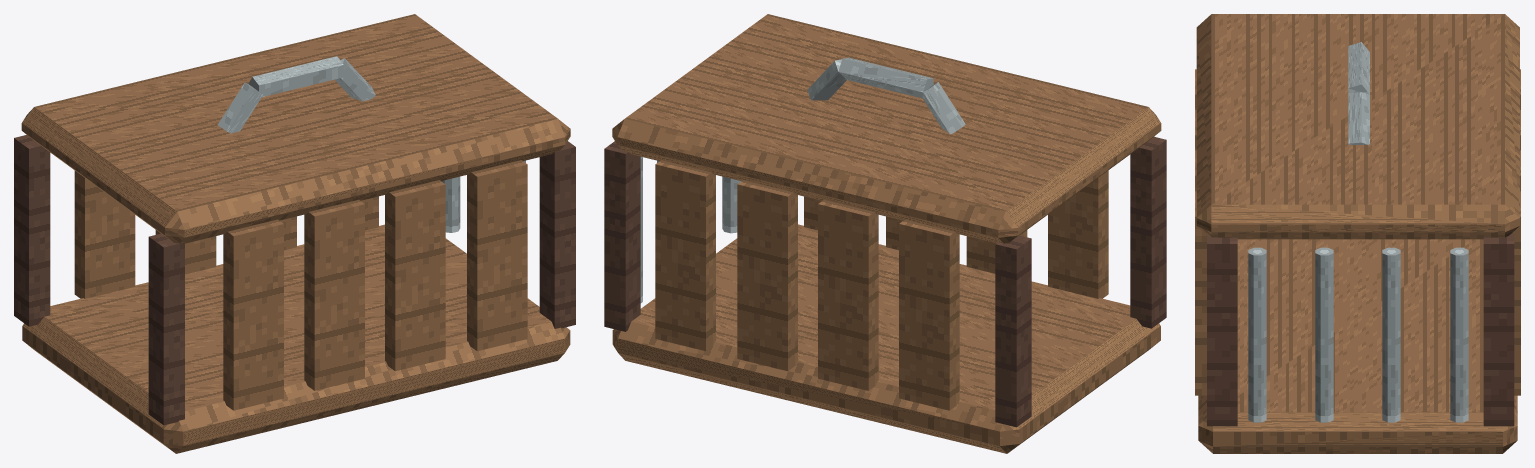
The model's file is pet_carrier_wooden.glb.
3 views of the same model, side by side, from view 1: azimuth 30°, elevation 25°; view 2: azimuth 150°, elevation 25°; view 3: azimuth 270°, elevation 25° (orthographic). The views are drawn at different scales.
Parts seen in each view (by area): view 1: block_covered top, block_wooden ventilation slat (×6), block_wooden carrier floor, block_wooden corner brace (×3), block_top handle 1, block_top handle 0, block_metal door bars, block_top handle 2; view 2: block_covered top, block_wooden ventilation slat (×6), block_wooden carrier floor, block_wooden corner brace (×3), block_top handle 1, block_top handle 0, block_top handle 2, block_metal door bars; view 3: block_covered top, block_wooden carrier floor, block_metal door bars (×4), block_wooden corner brace (×2), block_wooden ventilation slat (×2), block_top handle 2, block_top handle 1.
Part boxes in pixels (x1,y1,x2,y2): block_covered top: (21,14,570,243); block_wooden ventilation slat (×6): (74,160,527,410); block_wooden carrier floor: (22,224,570,453); block_wooden corner brace (×3): (14,135,575,425); block_top handle 1: (248,56,343,97); block_top handle 0: (217,82,263,133); block_metal door bars: (441,176,460,232); block_top handle 2: (335,58,375,101); block_covered top: (612,14,1161,243); block_wooden ventilation slat (×6): (655,160,1108,410); block_wooden carrier floor: (612,224,1160,453); block_wooden corner brace (×3): (604,136,1166,427); block_top handle 1: (838,57,933,98); block_top handle 0: (922,82,965,133); block_top handle 2: (807,59,846,100); block_metal door bars: (722,176,741,233); block_covered top: (1196,14,1519,239); block_wooden carrier floor: (1198,239,1517,453); block_metal door bars (×4): (1248,247,1468,422); block_wooden corner brace (×2): (1207,233,1514,426); block_wooden ventilation slat (×2): (1195,191,1520,395); block_top handle 2: (1348,92,1369,144); block_top handle 1: (1348,42,1369,94).
Bounding box in the file's own units: 0.3518 × 0.2318 × 0.2318.
1 material, 1 textured.
